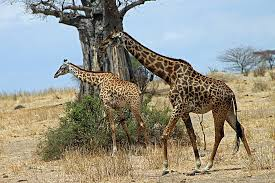Jirafa: (94, 22, 141, 63), (45, 52, 91, 83)
